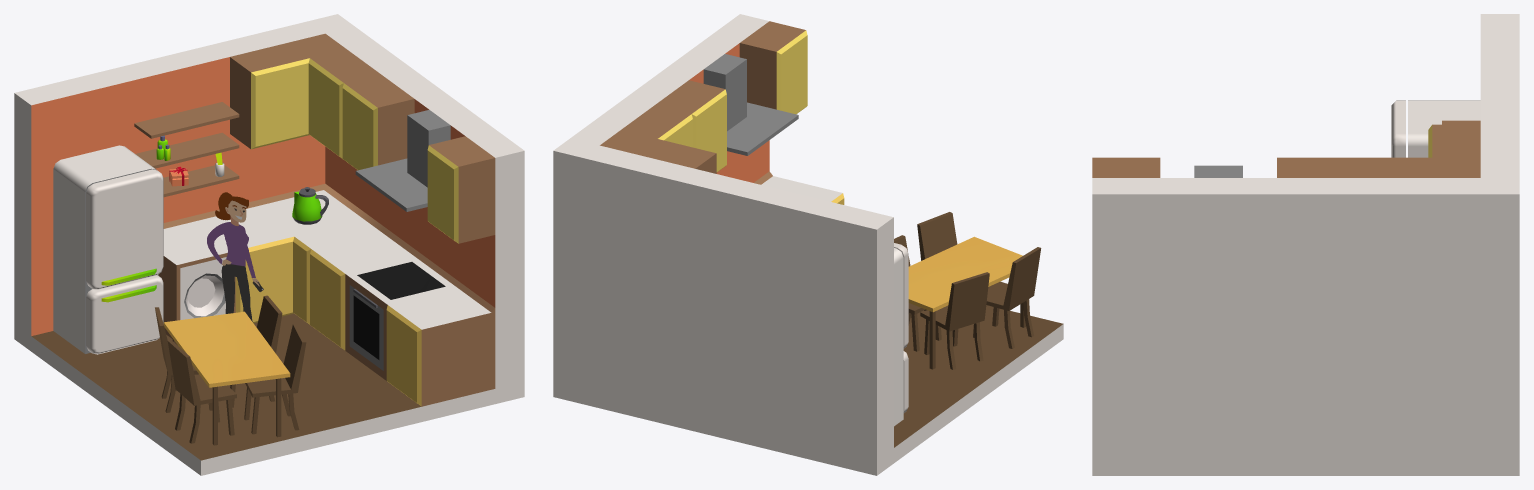
File: SM_KitchenCharacter.gltf
3 renders of one model, left to right at view 1: azimuth 30°, elevation 25°; view 2: azimuth 150°, elevation 25°; view 3: azimuth 270°, elevation 25°, orthographic. The views are drawn at different scales.
Parts seen in each view (by area): view 1: Plane.022, Plane.018, Fridge, Plane.024, Kitchen_Character, Plane.025, Plane.028, Kettle, Plane.027, Plane.026; view 2: Plane.022, Plane.018, Plane.024, Plane.026, Fridge, Plane.025, Plane.028, Plane.027; view 3: Plane.022, Plane.018, Fridge.
Boxes of the visible parts, x1=… form: Plane.022: x1=14, y1=14, x2=524, y2=475; Plane.018: x1=134, y1=33, x2=495, y2=406; Fridge: x1=53, y1=145, x2=163, y2=354; Plane.024: x1=163, y1=311, x2=290, y2=445; Kitchen_Character: x1=207, y1=192, x2=263, y2=321; Plane.025: x1=167, y1=340, x2=236, y2=443; Plane.028: x1=244, y1=324, x2=306, y2=434; Kettle: x1=292, y1=187, x2=328, y2=224; Plane.027: x1=230, y1=295, x2=282, y2=407; Plane.026: x1=155, y1=307, x2=212, y2=412; Plane.022: x1=553, y1=14, x2=1063, y2=475; Plane.018: x1=600, y1=21, x2=844, y2=204; Plane.024: x1=908, y1=236, x2=1026, y2=369; Plane.026: x1=920, y1=272, x2=989, y2=369; Fridge: x1=894, y1=243, x2=908, y2=426; Plane.025: x1=973, y1=247, x2=1041, y2=348; Plane.028: x1=917, y1=212, x2=957, y2=310; Plane.027: x1=894, y1=235, x2=941, y2=351; Plane.022: x1=1092, y1=14, x2=1519, y2=475; Plane.018: x1=1092, y1=120, x2=1480, y2=177; Fridge: x1=1391, y1=100, x2=1480, y2=157.
Size of the model in its own units: 4.4 by 3.2 by 4.4.
Materials: 2 (2 with a texture image).
